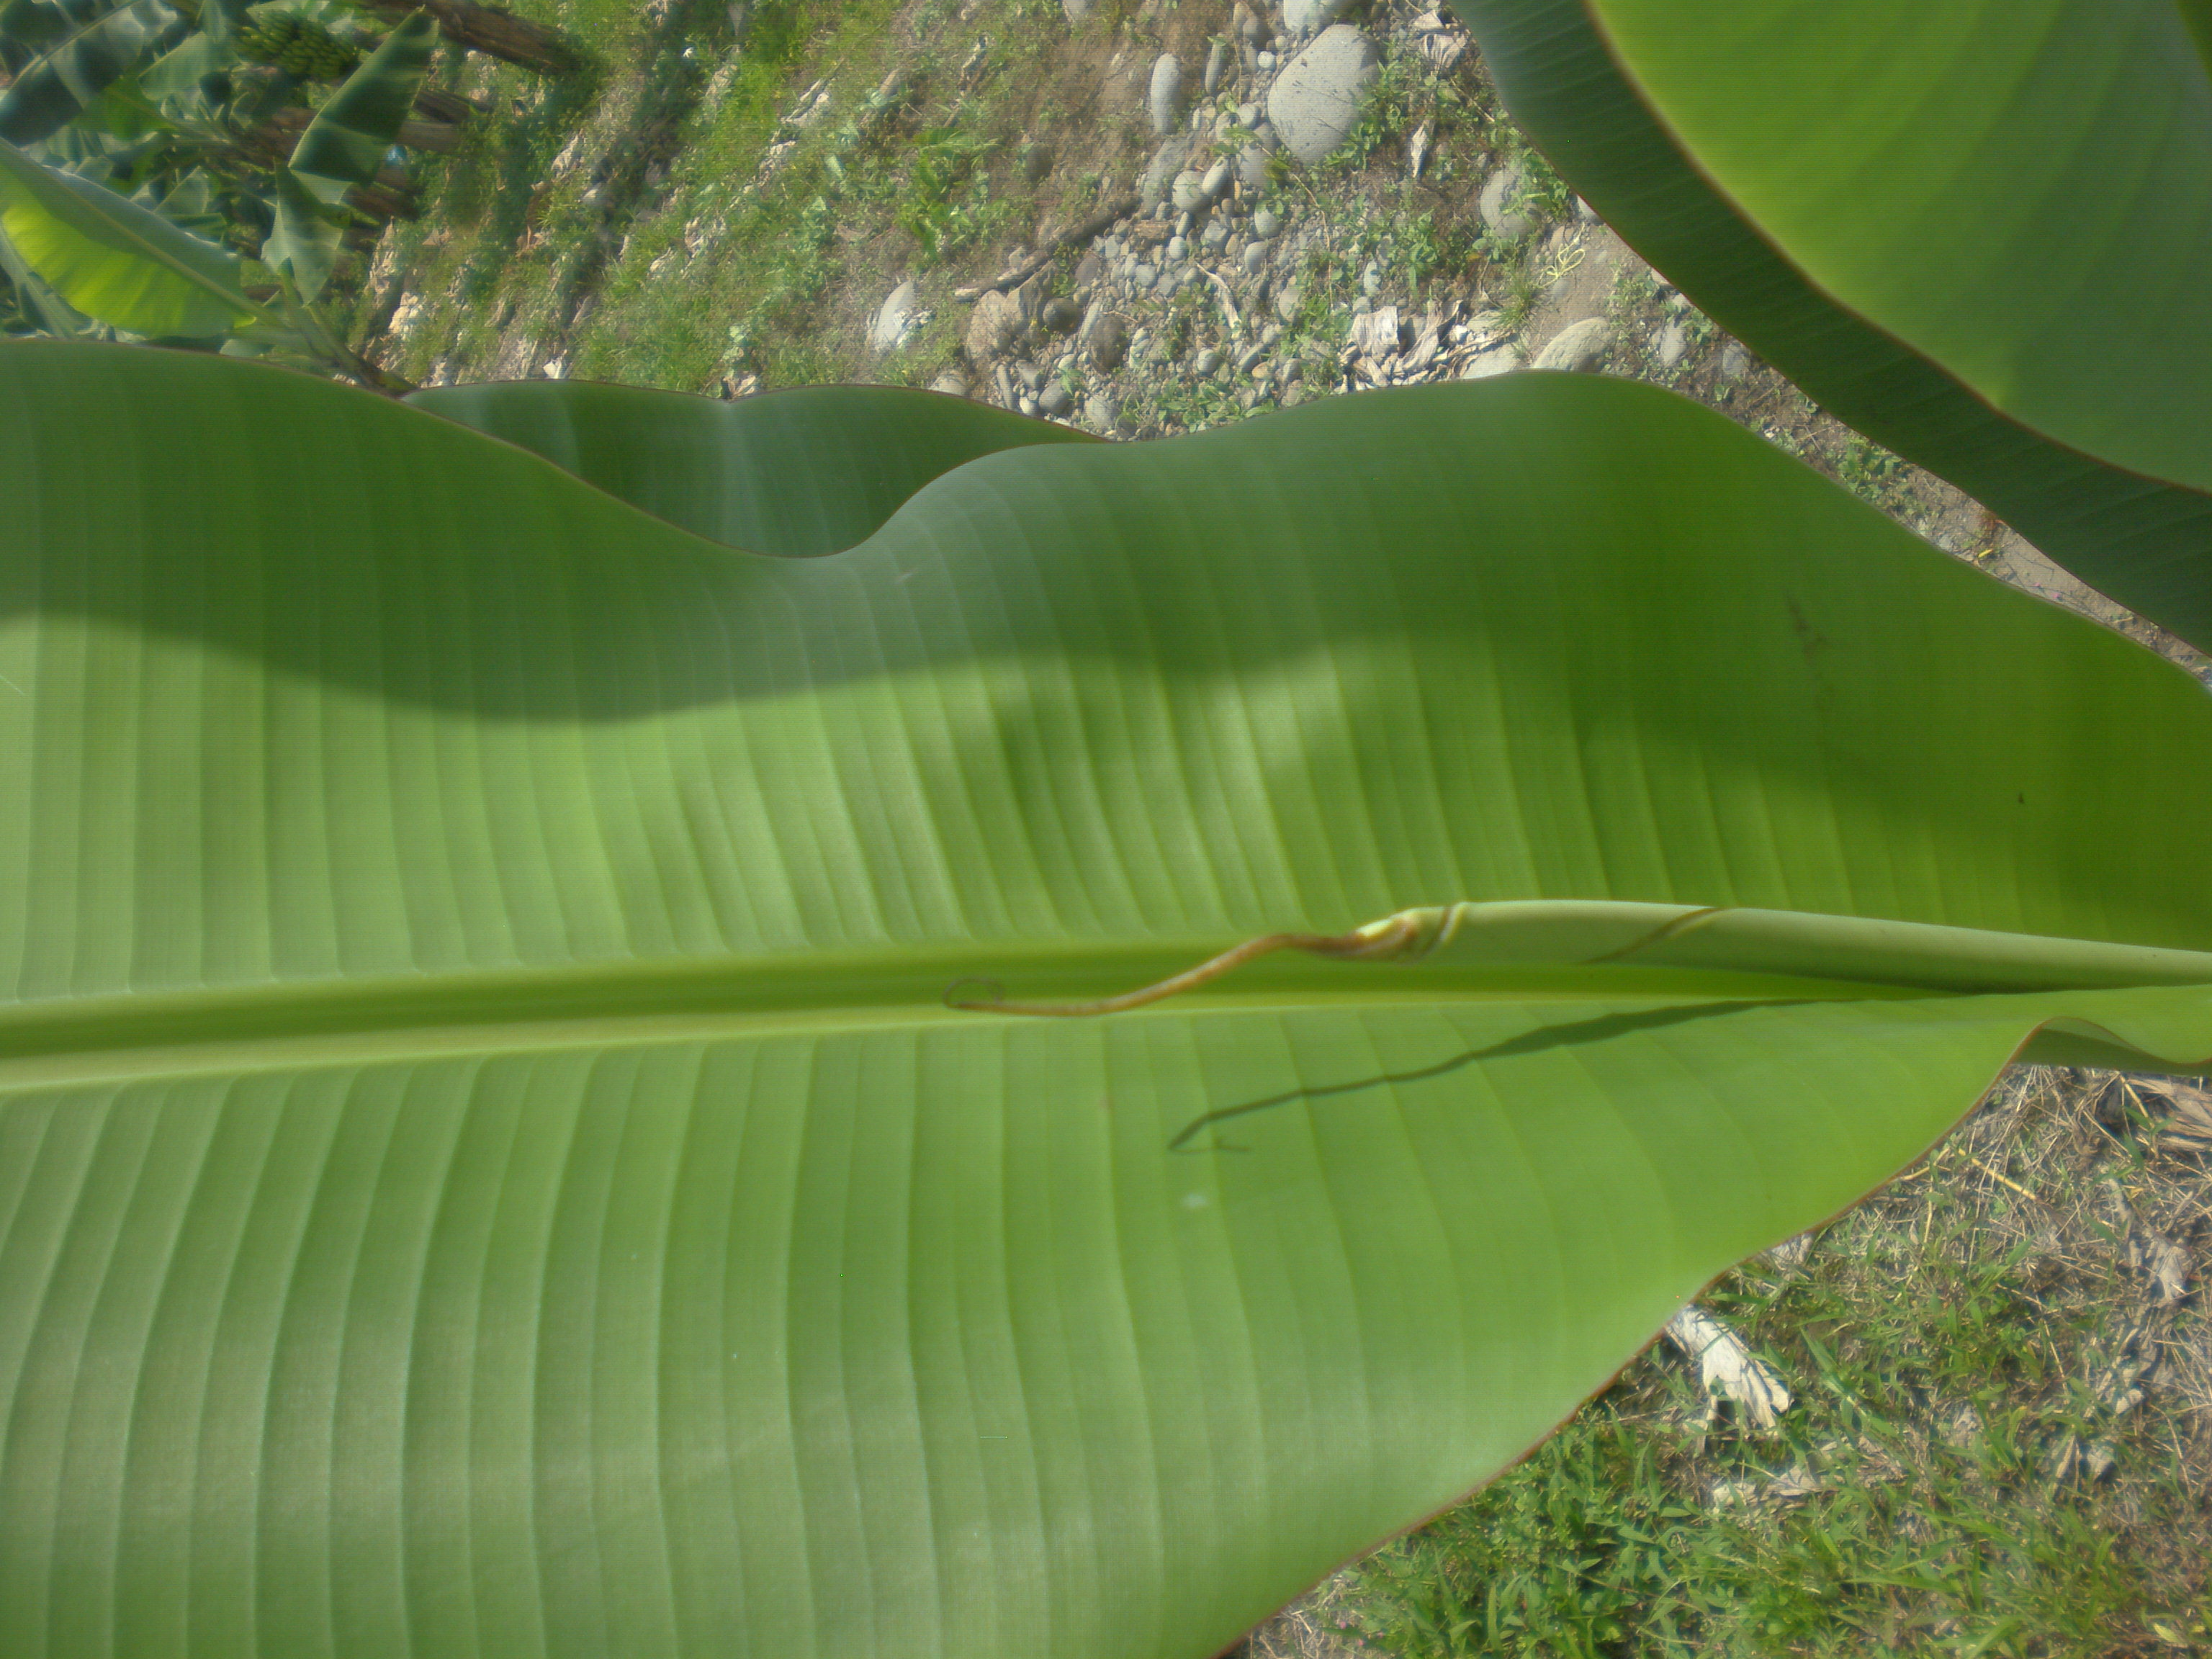candleleafs: (935, 897, 2212, 1028)
